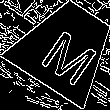M_NE: (32, 14, 100, 82)
